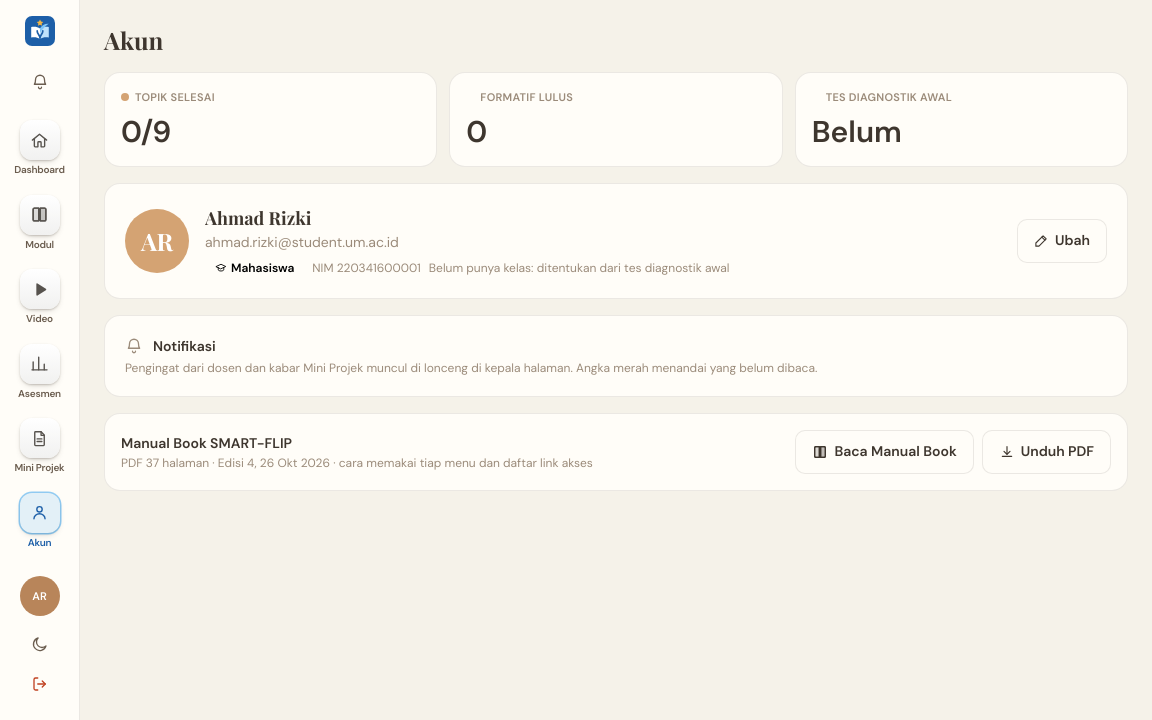
Akun › mahasiswa: tahun angkatan tampil hanya-baca dengan keterangan
The width and height of the screenshot is (1152, 720).
Click the button "Ubah".
click(1062, 240)  # box 1017,218 -> 1107,262
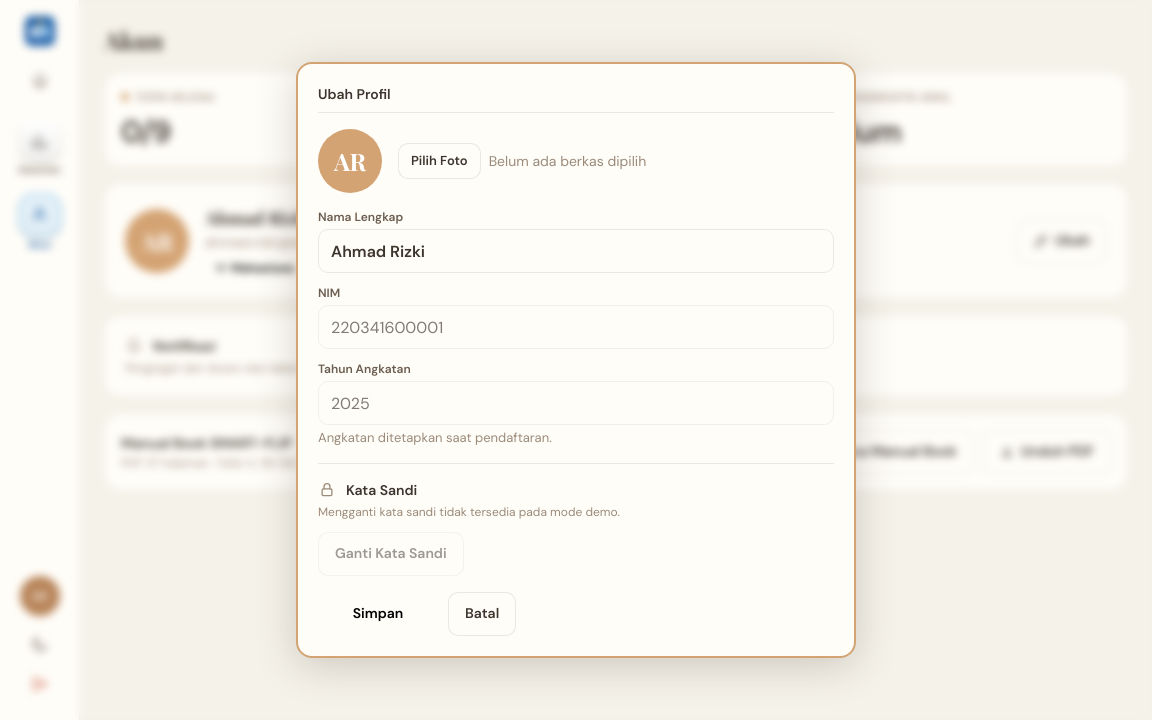
Result: the field labelled "Tahun Angkatan Angkatan ditetapkan saat pendaftaran." holds "2025" at 318,381 -> 834,425
Result: the text "Angkatan ditetapkan saat pendaftaran." is shown at 318,429 -> 552,446
